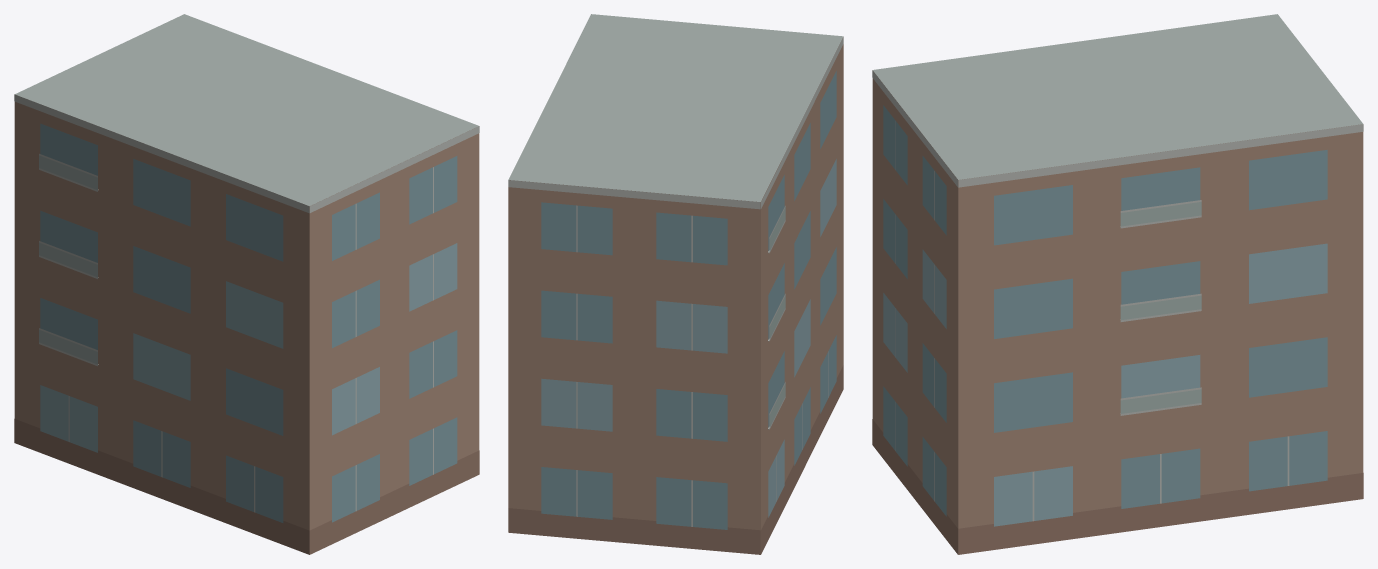
Rendered from survey-upis-32749594.glb.
3 renders of one model, left to right at view 1: azimuth 30°, elevation 25°; view 2: azimuth 150°, elevation 25°; view 3: azimuth 270°, elevation 25°, orthographic. The views are drawn at different scales.
Visible parts, largest first — view 1: survey-upis-32749594.tmp; view 2: survey-upis-32749594.tmp; view 3: survey-upis-32749594.tmp.
Boxes of the visible parts, x1,y1,x2,y2 form: survey-upis-32749594.tmp: (14,14,479,554); survey-upis-32749594.tmp: (508,14,843,554); survey-upis-32749594.tmp: (872,14,1363,554).
Bounding box in the file's own units: 11.31 × 11.9 × 14.14.
